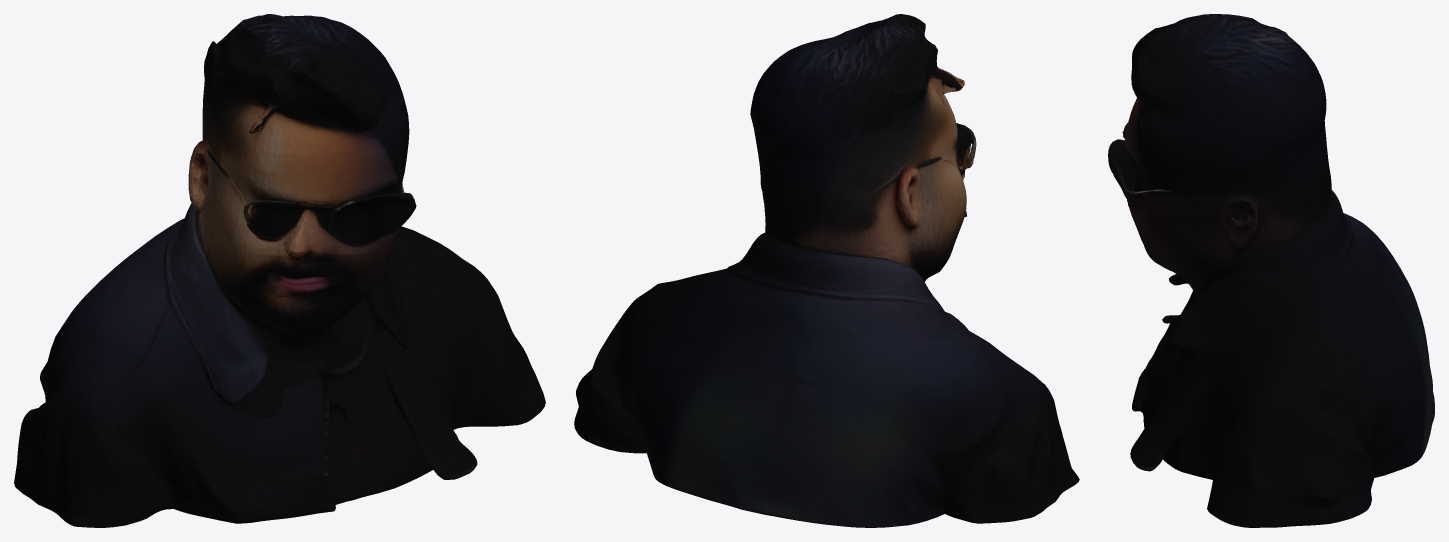
File: main2.glb
3 renders of one model, left to right at view 1: azimuth 30°, elevation 25°; view 2: azimuth 150°, elevation 25°; view 3: azimuth 270°, elevation 25°, orthographic. The views are drawn at different scales.
Visible parts, largest first — view 1: world; view 2: world; view 3: world.
Part boxes in pixels (x1,y1,x2,y2): world: (14, 14, 545, 527); world: (574, 14, 1079, 527); world: (1108, 14, 1434, 527).
Bounding box in the file's own units: 0.9968 × 0.8624 × 0.6494.
Materials: 1 (1 with a texture image).
